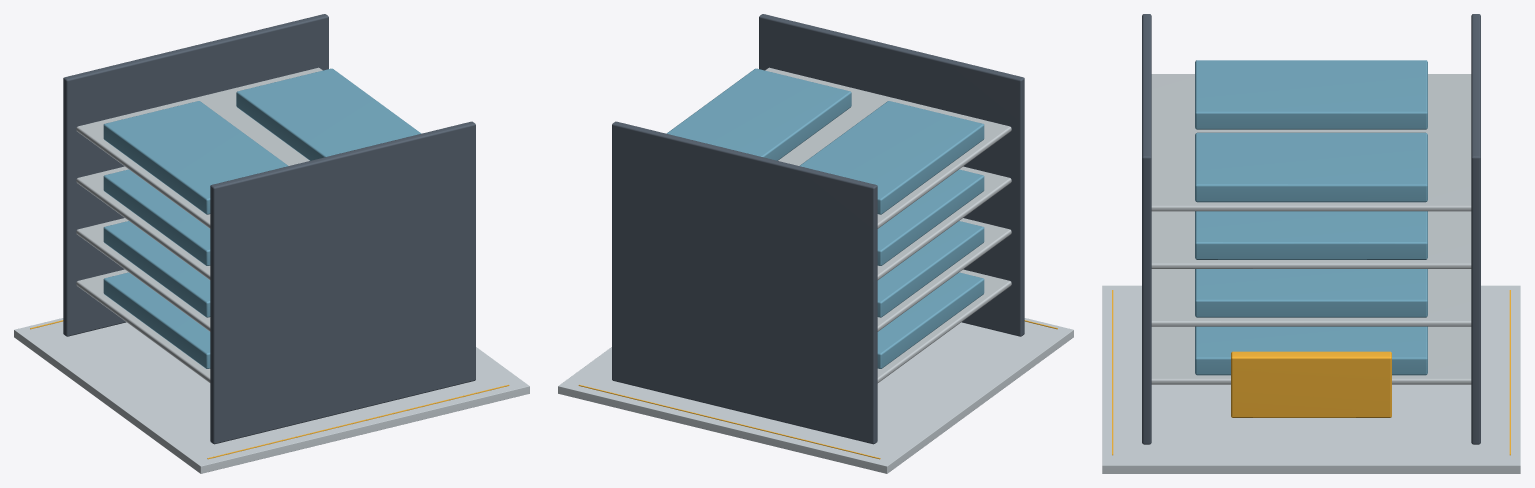
3 views of the same model, side by side, from view 1: azimuth 30°, elevation 25°; view 2: azimuth 150°, elevation 25°; view 3: azimuth 270°, elevation 25° (orthographic). The views are drawn at different scales.
Parts seen in each view (by area): view 1: Storage frame side, Ground plane, Storage frame side.001, Storage container.006, Storage container.007, Storage tray.003, Storage container.002, Storage container.004, Storage container, Storage tray.001, Storage tray.002, Storage tray (+1 smaller); view 2: Storage frame side.001, Ground plane, Storage frame side, Storage container.006, Storage container.007, Storage tray.003, Storage container.002, Storage container.004, Storage container, Storage tray.001, Storage tray.002, Storage tray (+1 smaller); view 3: Ground plane, Storage container.007, Storage container.006, Storage tray.003, Storage container.003, Storage container.005, Pick port, Storage container.001, Storage tray.001, Storage tray.002, Storage tray, Storage frame side (+1 smaller).
Part boxes in pixels (x1,y1,x2,y2): Storage frame side: (210, 121, 475, 444); Ground plane: (14, 318, 529, 473); Storage frame side.001: (63, 14, 328, 336); Storage container.006: (103, 101, 288, 214); Storage container.007: (236, 68, 420, 160); Storage tray.003: (76, 67, 322, 228); Storage container.002: (103, 221, 210, 317); Storage container.004: (103, 169, 210, 265); Storage container: (103, 272, 210, 368); Storage tray.001: (76, 218, 210, 331); Storage tray.002: (76, 166, 210, 279); Storage tray: (76, 269, 210, 382); Storage frame side.001: (612, 121, 877, 444); Ground plane: (558, 318, 1073, 473); Storage frame side: (759, 14, 1024, 336); Storage container.006: (799, 101, 984, 214); Storage container.007: (667, 68, 851, 160); Storage tray.003: (765, 67, 1011, 228); Storage container.002: (877, 221, 984, 317); Storage container.004: (877, 169, 984, 265); Storage container: (877, 272, 984, 368); Storage tray.001: (877, 218, 1011, 331); Storage tray.002: (877, 166, 1011, 279); Storage tray: (877, 269, 1011, 382); Ground plane: (1102, 285, 1520, 473); Storage container.007: (1195, 132, 1427, 202); Storage container.006: (1195, 60, 1427, 129); Storage tray.003: (1151, 74, 1471, 211); Storage container.003: (1195, 269, 1427, 317); Storage container.005: (1195, 211, 1427, 259); Pick port: (1231, 351, 1391, 417); Storage container.001: (1195, 326, 1427, 375); Storage tray.001: (1151, 269, 1471, 326); Storage tray.002: (1151, 211, 1471, 268); Storage tray: (1151, 326, 1471, 384); Storage frame side: (1142, 14, 1151, 444).
Size of the model in its own units: 5.35 by 4.13 by 5.26.
